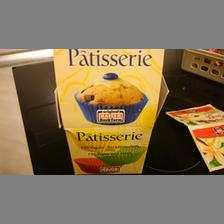Kuchen: (51, 47, 167, 172)
